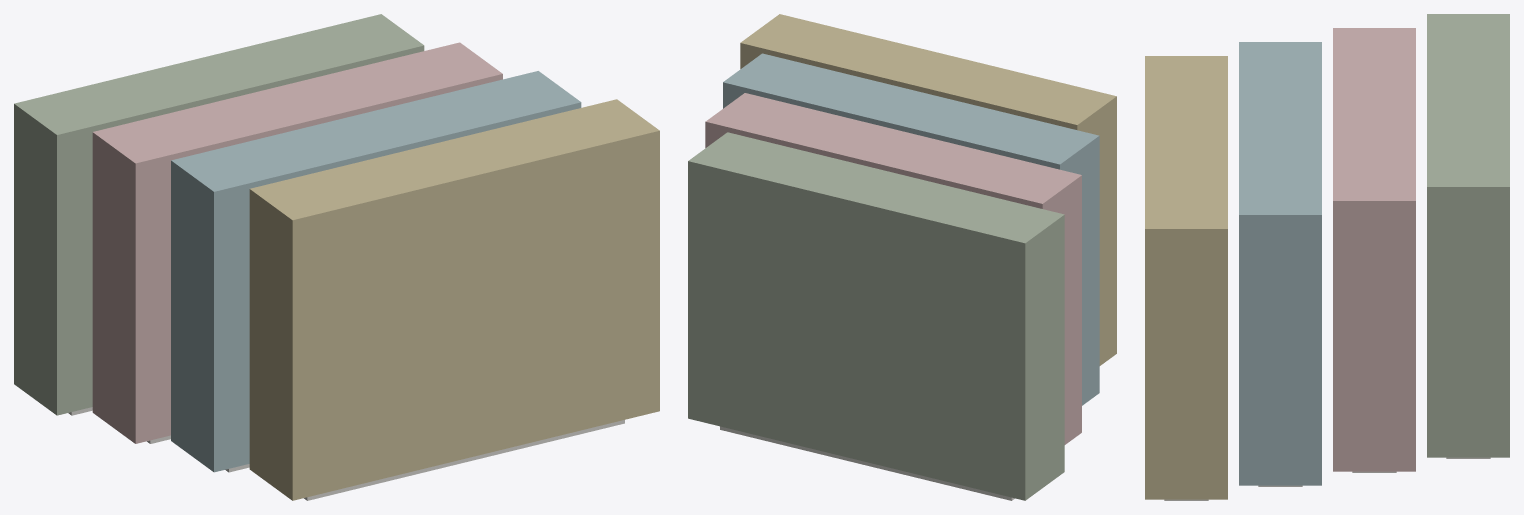
File: book_stack.glb
The picture shows the model from 3 angles, left to right: view 1: azimuth 30°, elevation 25°; view 2: azimuth 150°, elevation 25°; view 3: azimuth 270°, elevation 25°; orthographic projection. The views are drawn at different scales.
Visible parts, largest first — view 1: book_3, book_1, book_0, book_2, pages_3; view 2: book_0, book_2, book_1, book_3, pages_0; view 3: book_0, book_1, book_2, book_3.
Boxes of the visible parts, x1=… form: book_3: x1=249, y1=99, x2=659, y2=500; book_1: x1=92, y1=42, x2=502, y2=443; book_0: x1=14, y1=14, x2=424, y2=415; book_2: x1=171, y1=71, x2=581, y2=472; pages_3: x1=304, y1=420, x2=624, y2=500; book_0: x1=688, y1=132, x2=1064, y2=500; book_2: x1=723, y1=53, x2=1099, y2=405; book_1: x1=705, y1=93, x2=1081, y2=444; book_3: x1=740, y1=14, x2=1116, y2=365; pages_0: x1=720, y1=426, x2=1014, y2=500; book_0: x1=1427, y1=14, x2=1509, y2=457; book_1: x1=1333, y1=28, x2=1415, y2=471; book_2: x1=1239, y1=42, x2=1321, y2=485; book_3: x1=1145, y1=56, x2=1227, y2=499.
Bounding box in the file's own units: 0.46 × 0.283 × 0.33.
